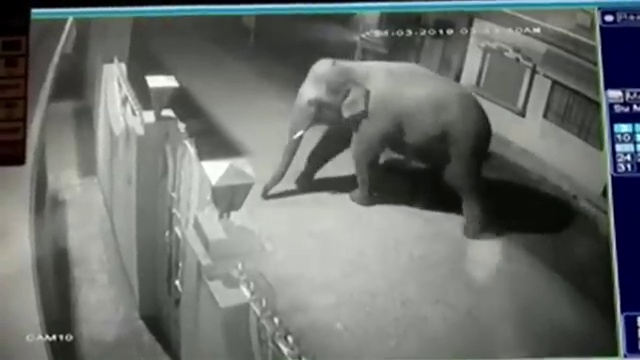Elephant: (261, 58, 493, 240)
